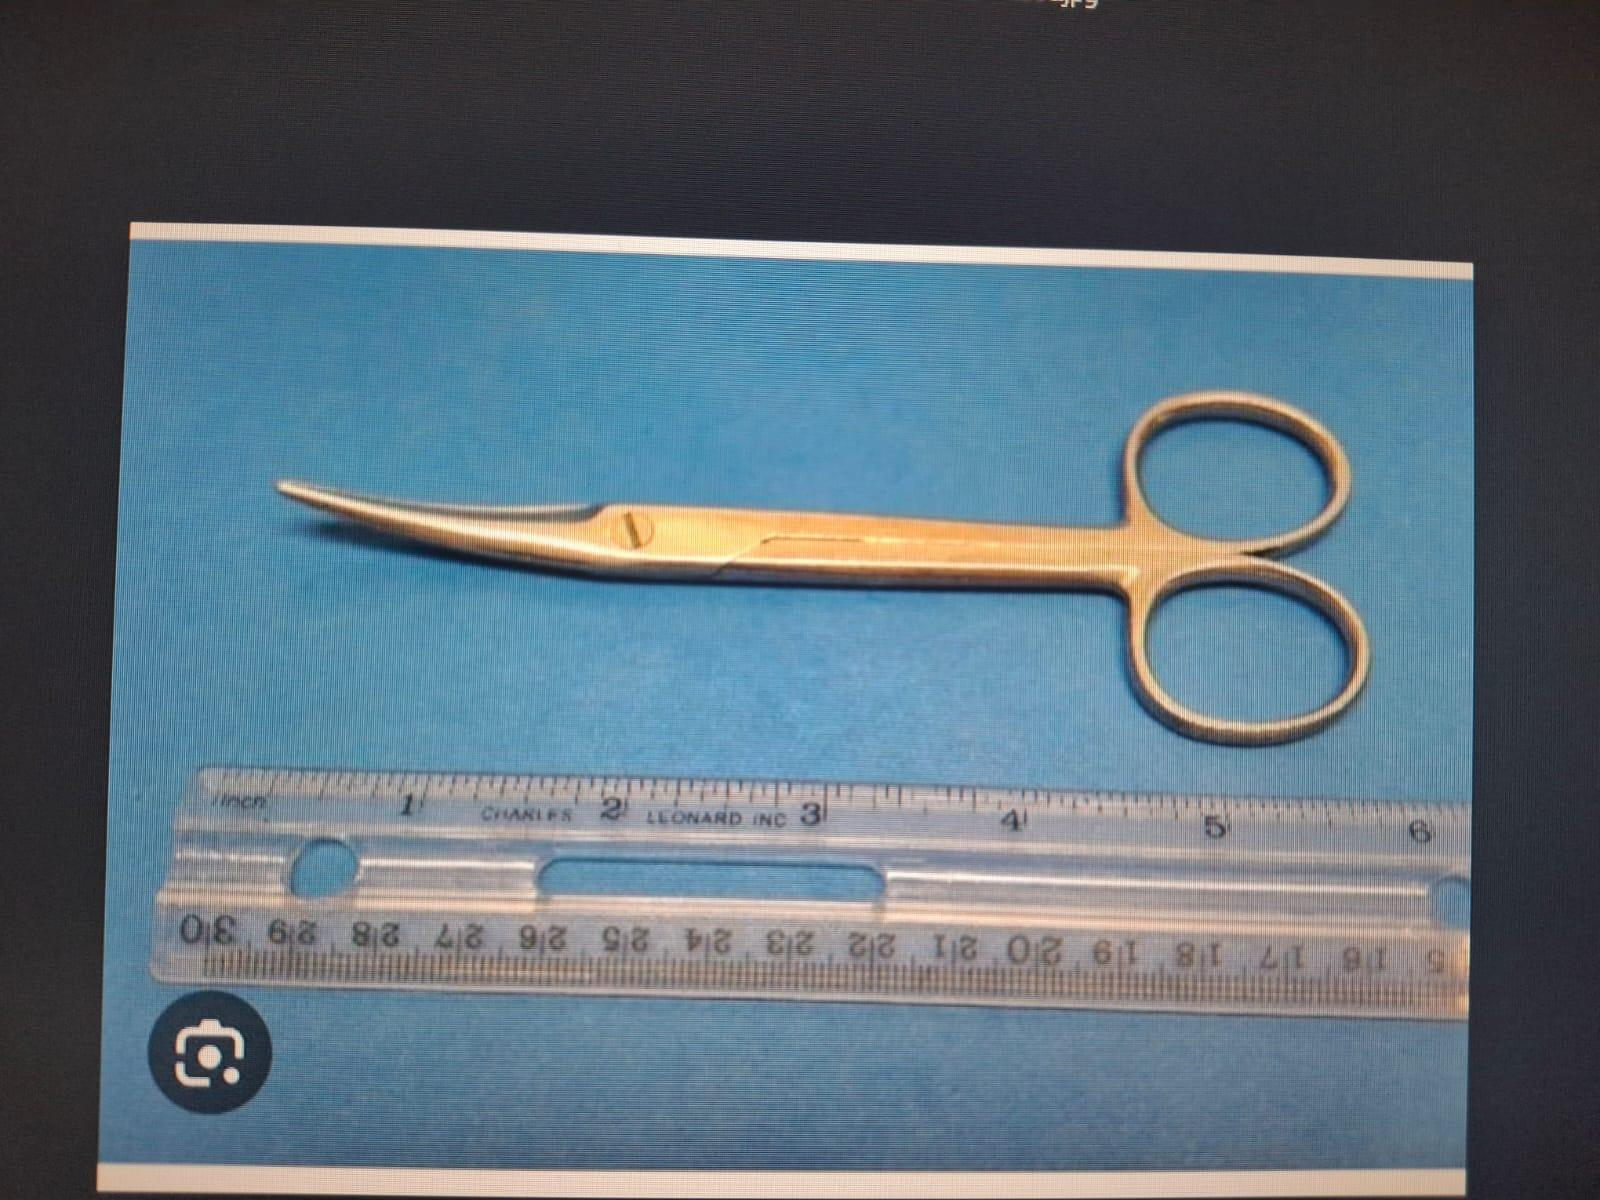Curved Mayo: (250, 372, 1374, 758)
